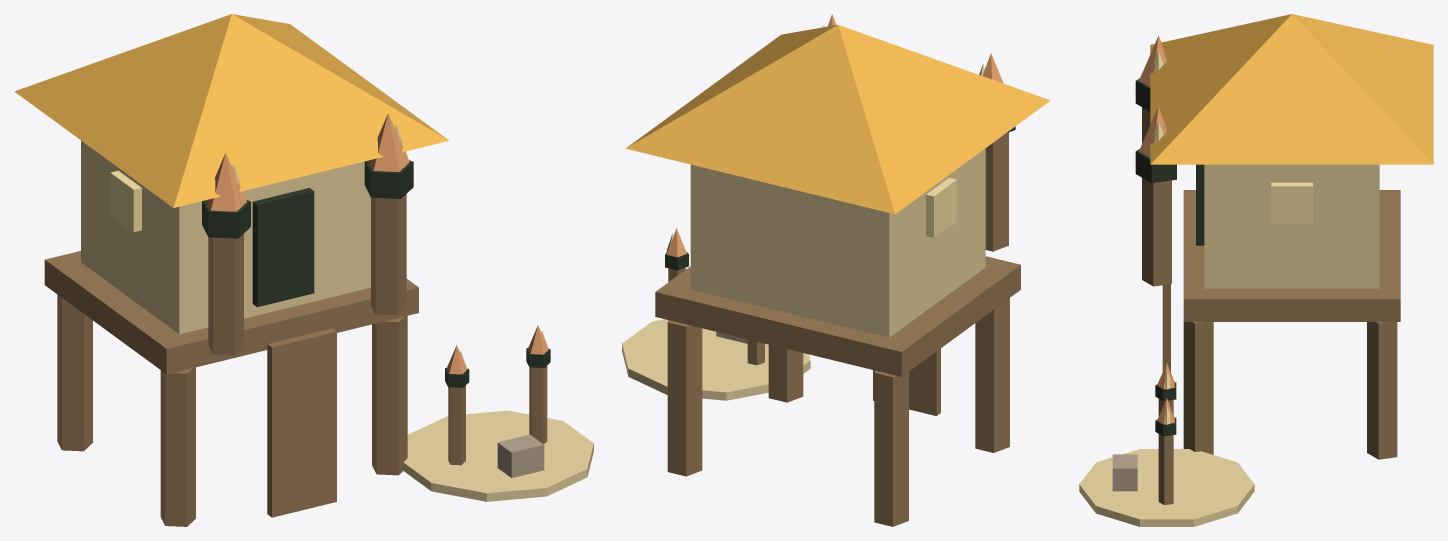
File: jungle-landmark-s2.glb
3 views of the same model, side by side, from view 1: azimuth 30°, elevation 25°; view 2: azimuth 150°, elevation 25°; view 3: azimuth 270°, elevation 25° (orthographic). The views are drawn at different scales.
Visible parts, largest first — view 1: jungle-landmark-s2; view 2: jungle-landmark-s2; view 3: jungle-landmark-s2.
Part boxes in pixels (left/top/right/bottom): jungle-landmark-s2: left=14, top=14, right=593, bottom=526; jungle-landmark-s2: left=622, top=14, right=1050, bottom=526; jungle-landmark-s2: left=1079, top=14, right=1433, bottom=526.
Bounding box in the file's own units: 1.02 × 1.04 × 0.8494.
